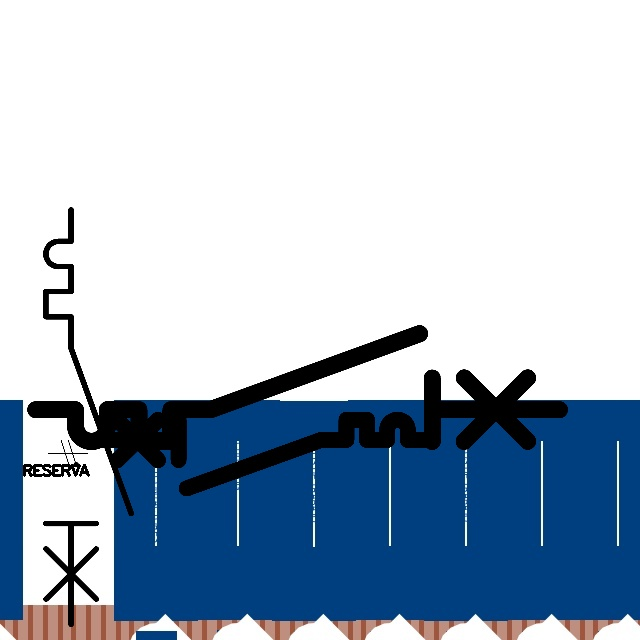interruptor_termomagnetico: (22, 320, 572, 455), (35, 199, 142, 635), (88, 411, 442, 497)
